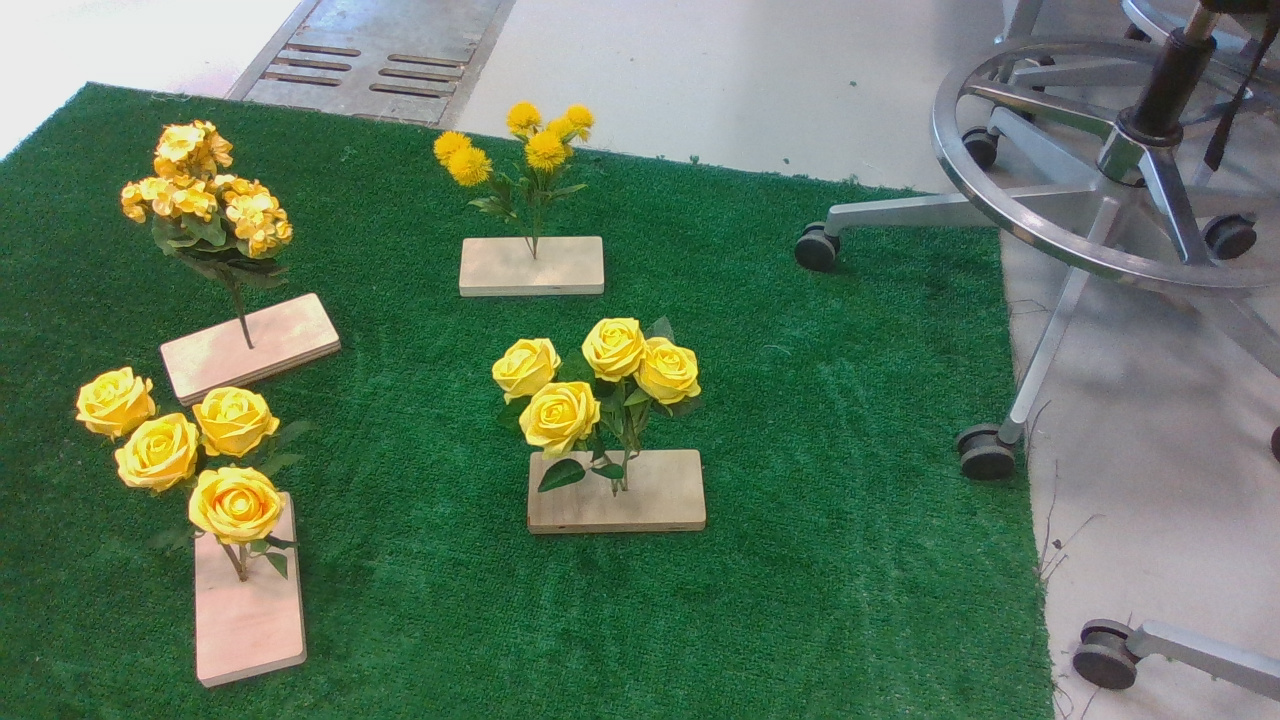dandelion: (412, 102, 618, 229)
geranium: (111, 122, 322, 300)
rose: (67, 368, 335, 592), (488, 314, 738, 498)
